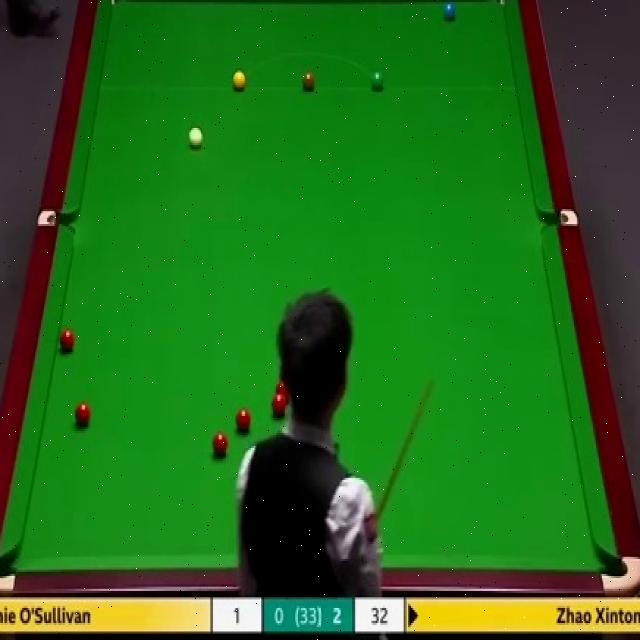blue-ball: (442, 0, 455, 21)
brown-ball: (302, 70, 316, 92)
green-ball: (370, 70, 385, 93)
red-ball: (74, 398, 91, 428), (271, 393, 289, 418), (212, 432, 230, 455), (234, 407, 251, 431), (59, 329, 76, 353), (275, 378, 292, 401)
white-ball: (188, 127, 203, 151)
yellow-ball: (231, 70, 247, 91)
